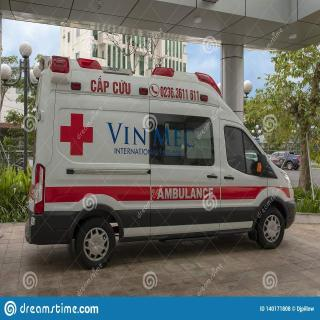Ambulance: (19, 35, 299, 275)
